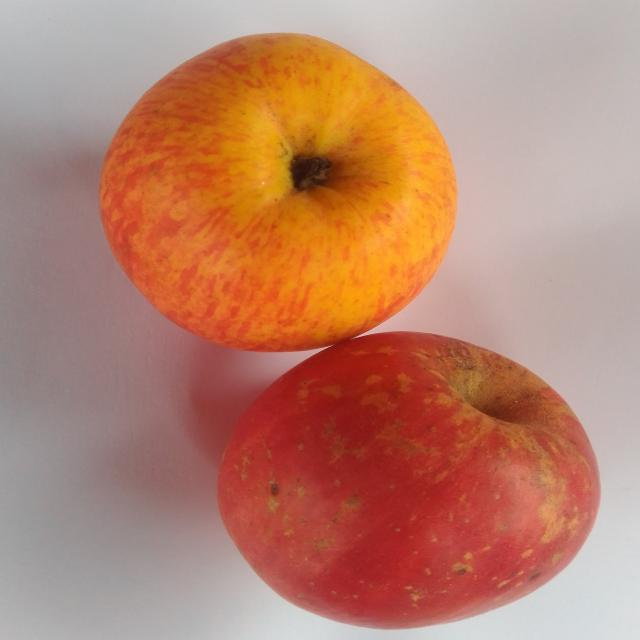Fresh Apple: (108, 40, 447, 337), (235, 332, 585, 610)
